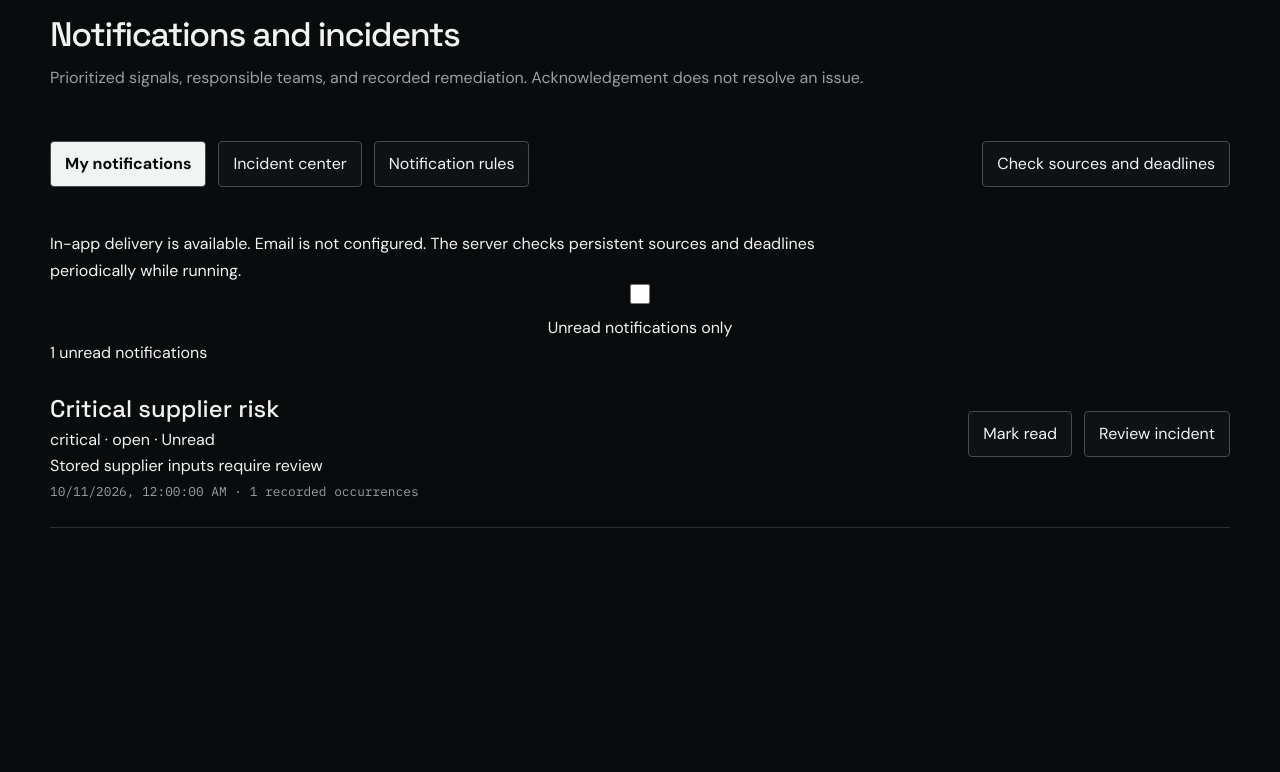
reviews before acknowledging and preserves the expected version
Click the button with aria-label "Review incident 1".
click(1157, 434)  # box [1084,411,1230,457]
(page scrolled)
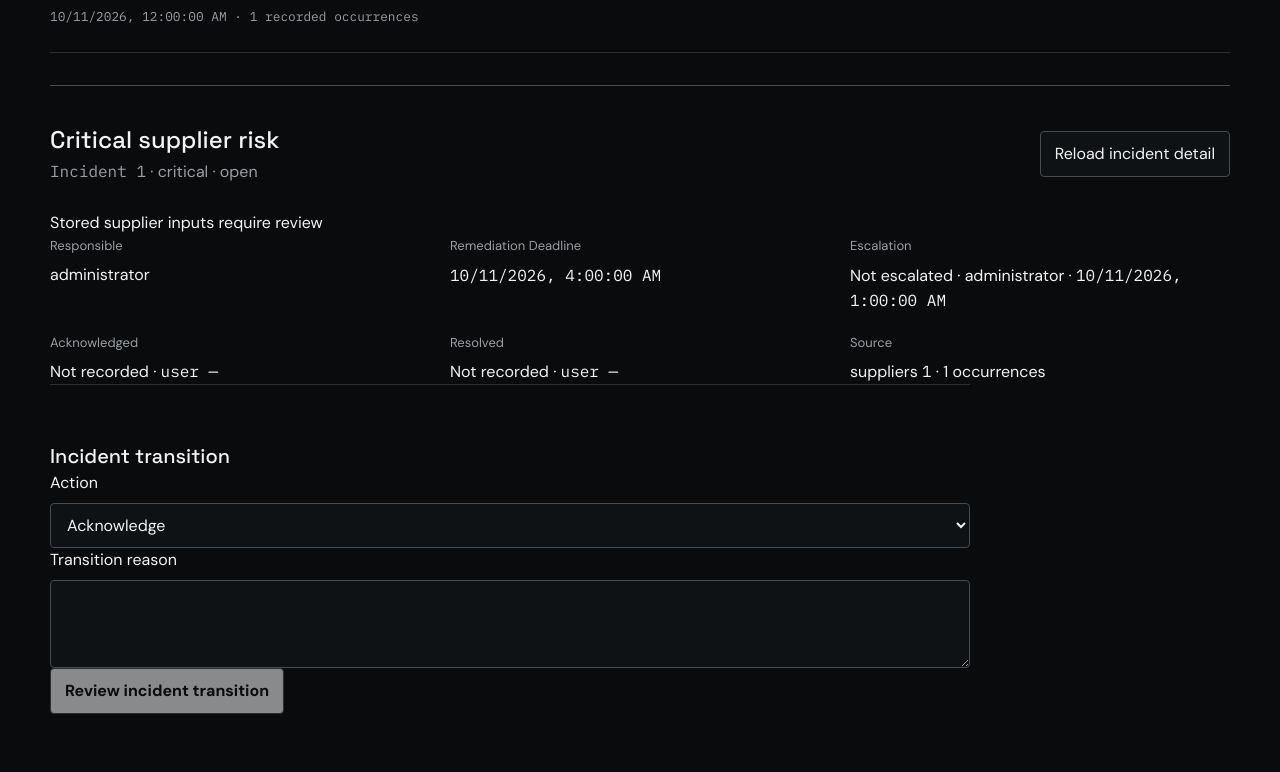
Type "Investigating source evidence" into the text box labelled "Transition reason".
click(510, 624); type("Investigating source evidence")  # box [50,580,970,668]
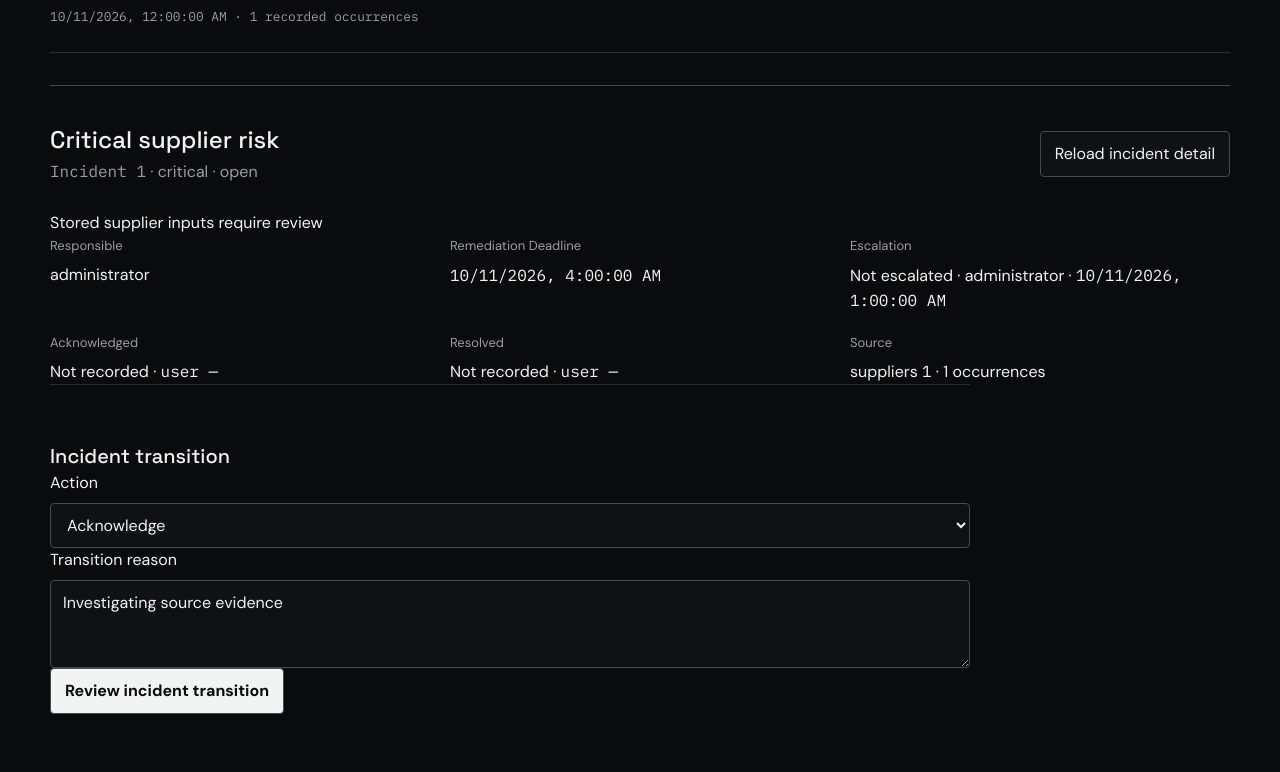
Click the button "Review incident transition".
click(167, 691)  # box [50,668,284,714]
(page scrolled)
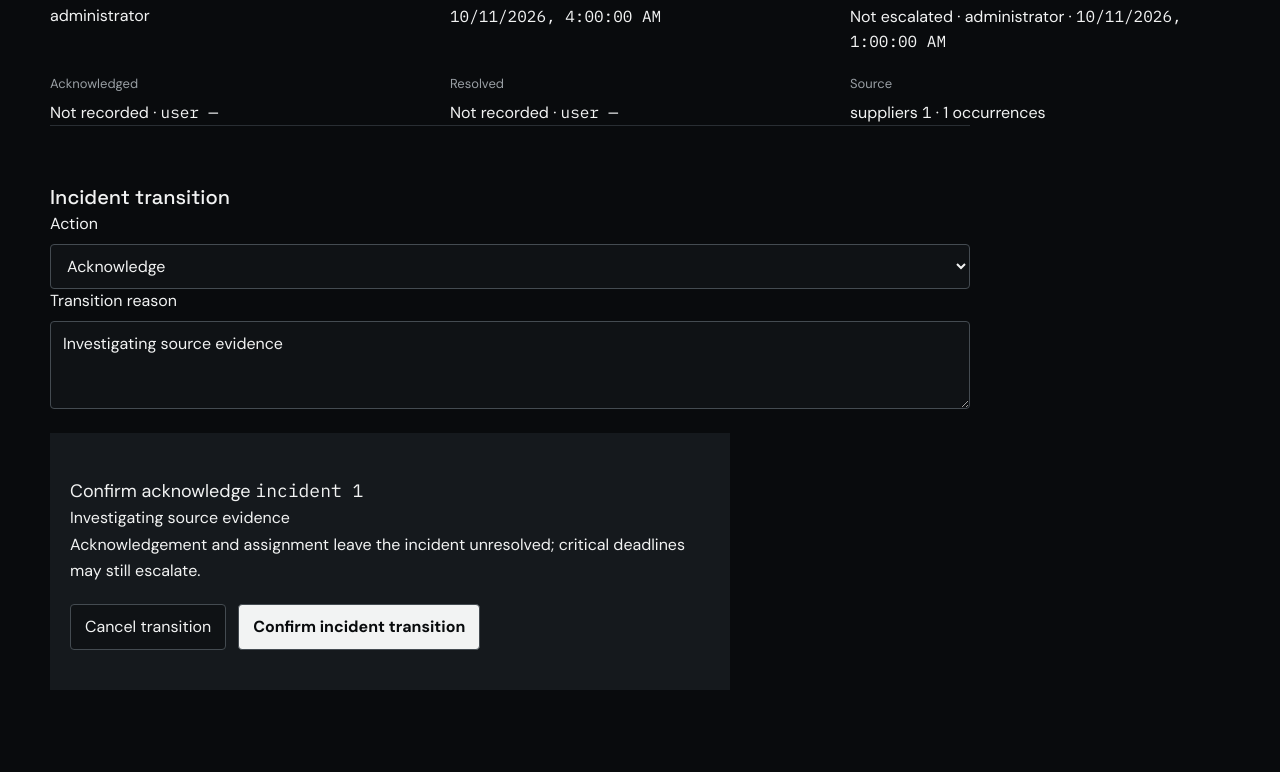
Click the button "Confirm incident transition".
click(359, 627)  # box [238,604,480,650]
(page scrolled)
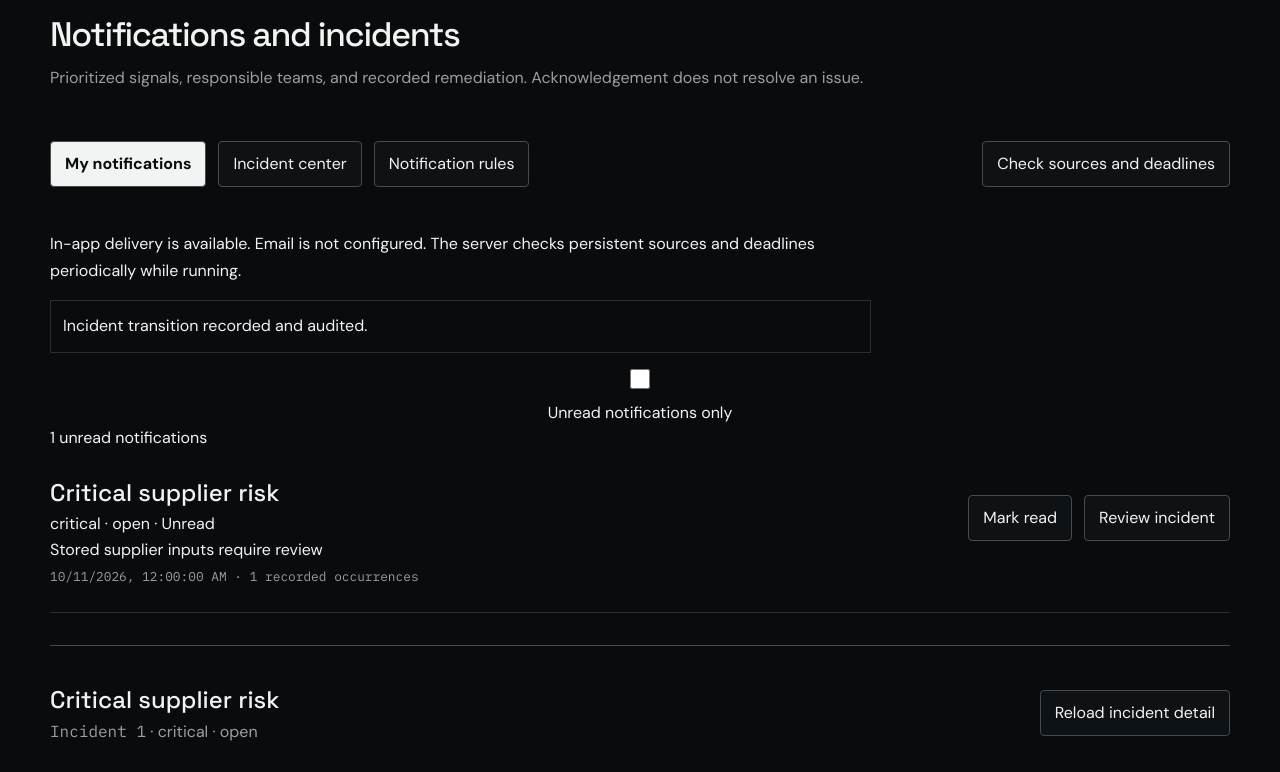
Check: the message shows "Incident transition recorded", box [63,315,367,336]
